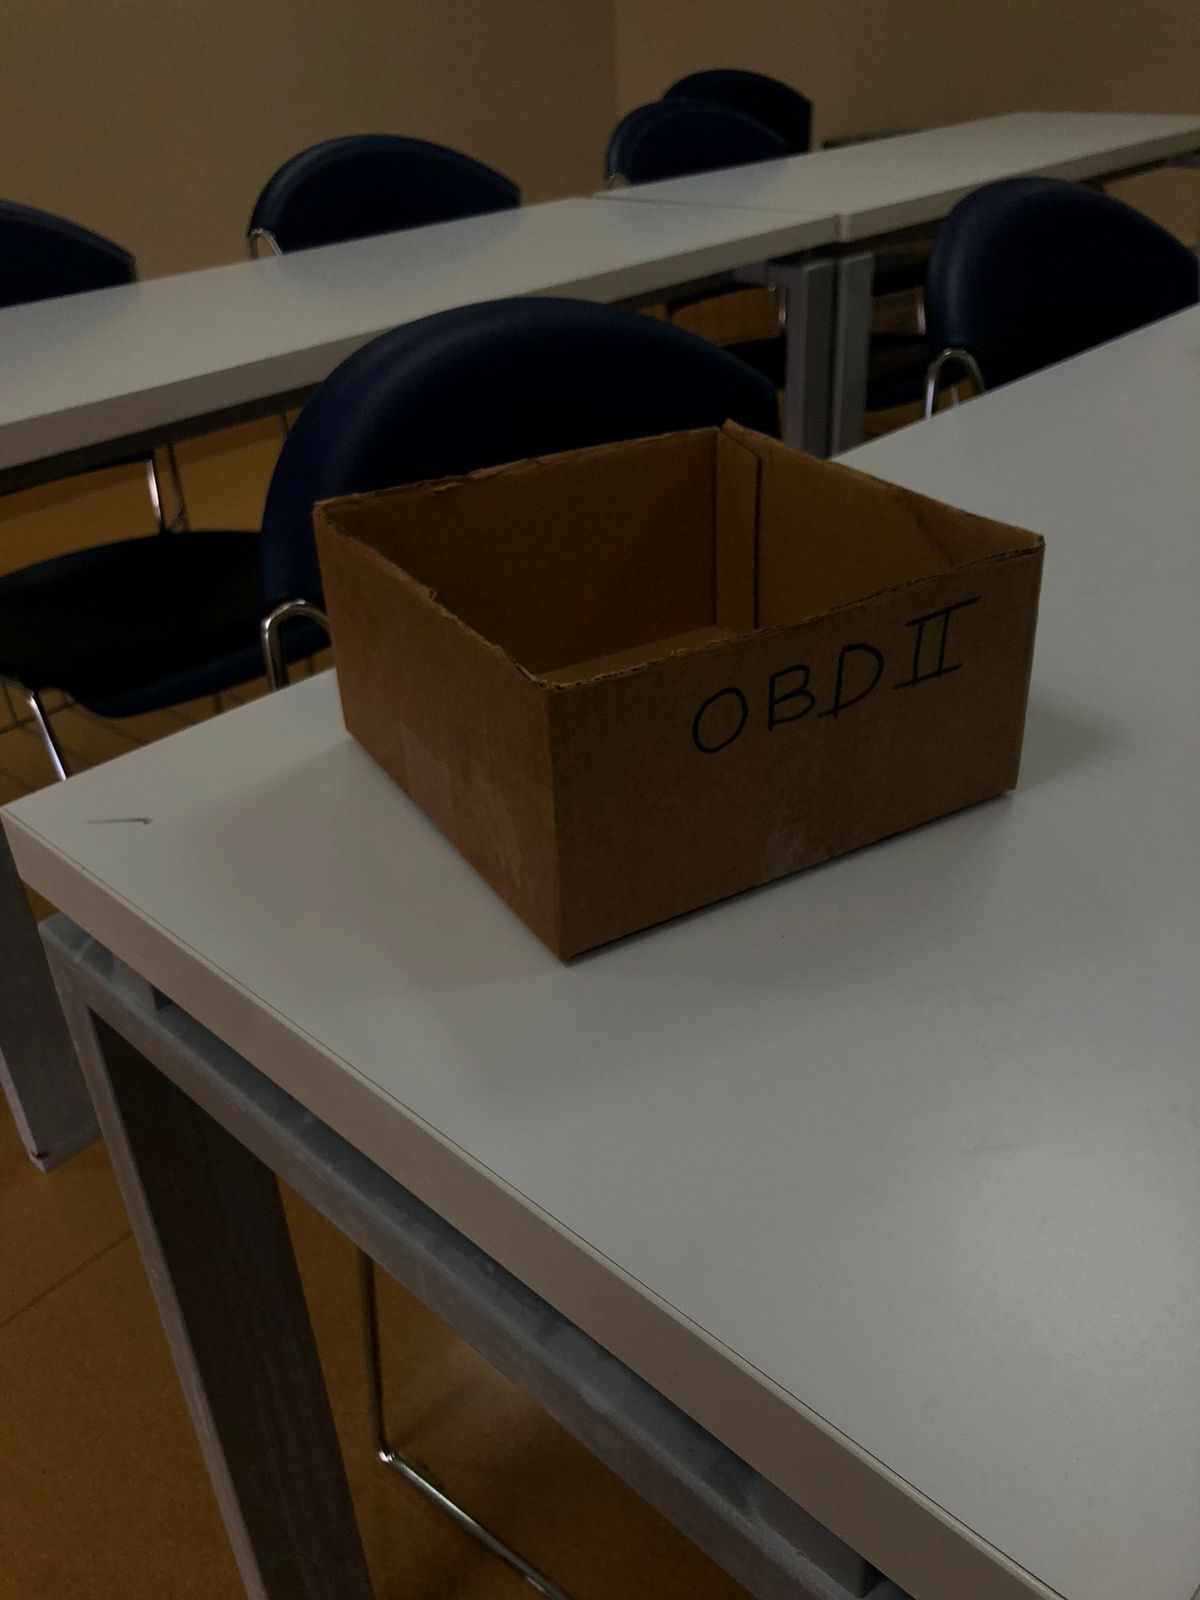CBox: (303, 420, 1051, 975)
